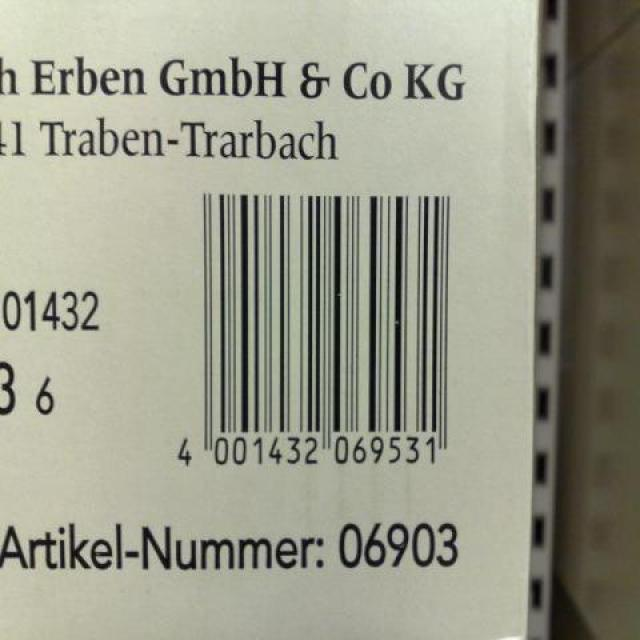Barcode: (160, 176, 479, 499)
